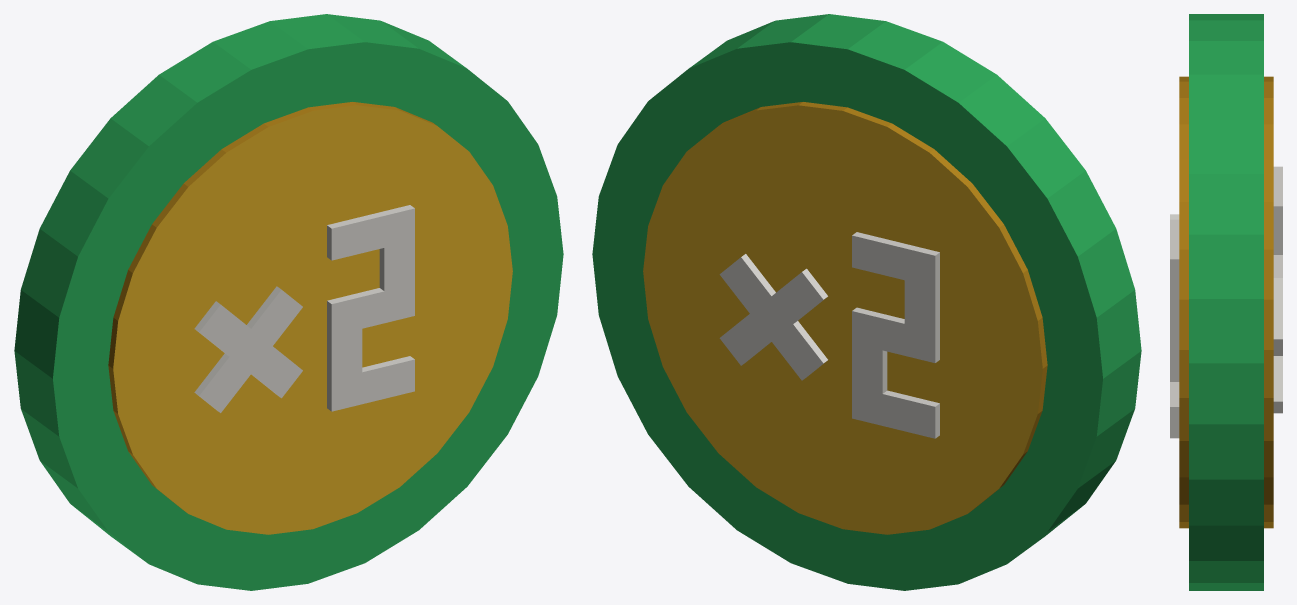
File: pickup_double.glb
The picture shows the model from 3 angles, left to right: view 1: azimuth 30°, elevation 25°; view 2: azimuth 150°, elevation 25°; view 3: azimuth 270°, elevation 25°; orthographic projection. The views are drawn at different scales.
Parts seen in each view (by area): view 1: body; view 2: body; view 3: body.
Boxes of the visible parts, left/top/right/bottom form: body: left=14, top=14, right=563, bottom=590; body: left=592, top=14, right=1141, bottom=590; body: left=1170, top=14, right=1282, bottom=590.
Size of the model in its own units: 1.84 by 1.84 by 0.36.
